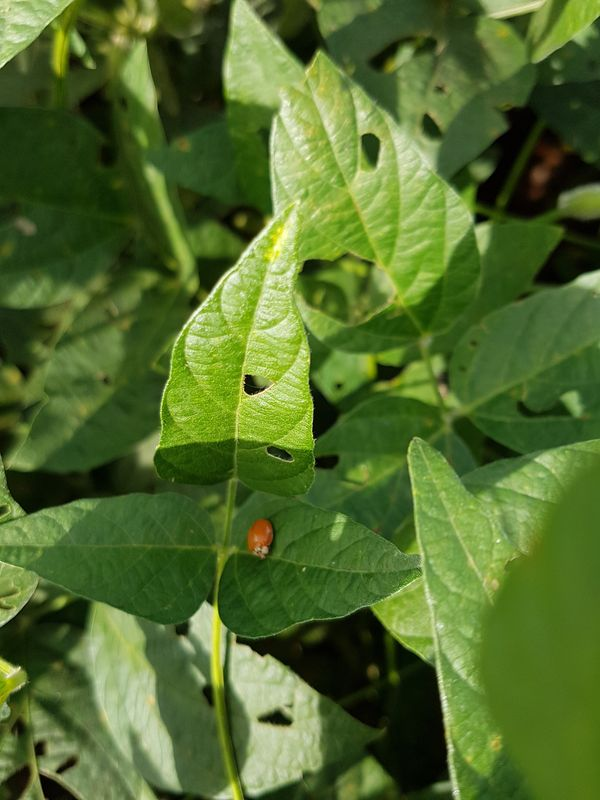Coccinellidae: (237, 514, 285, 565)
